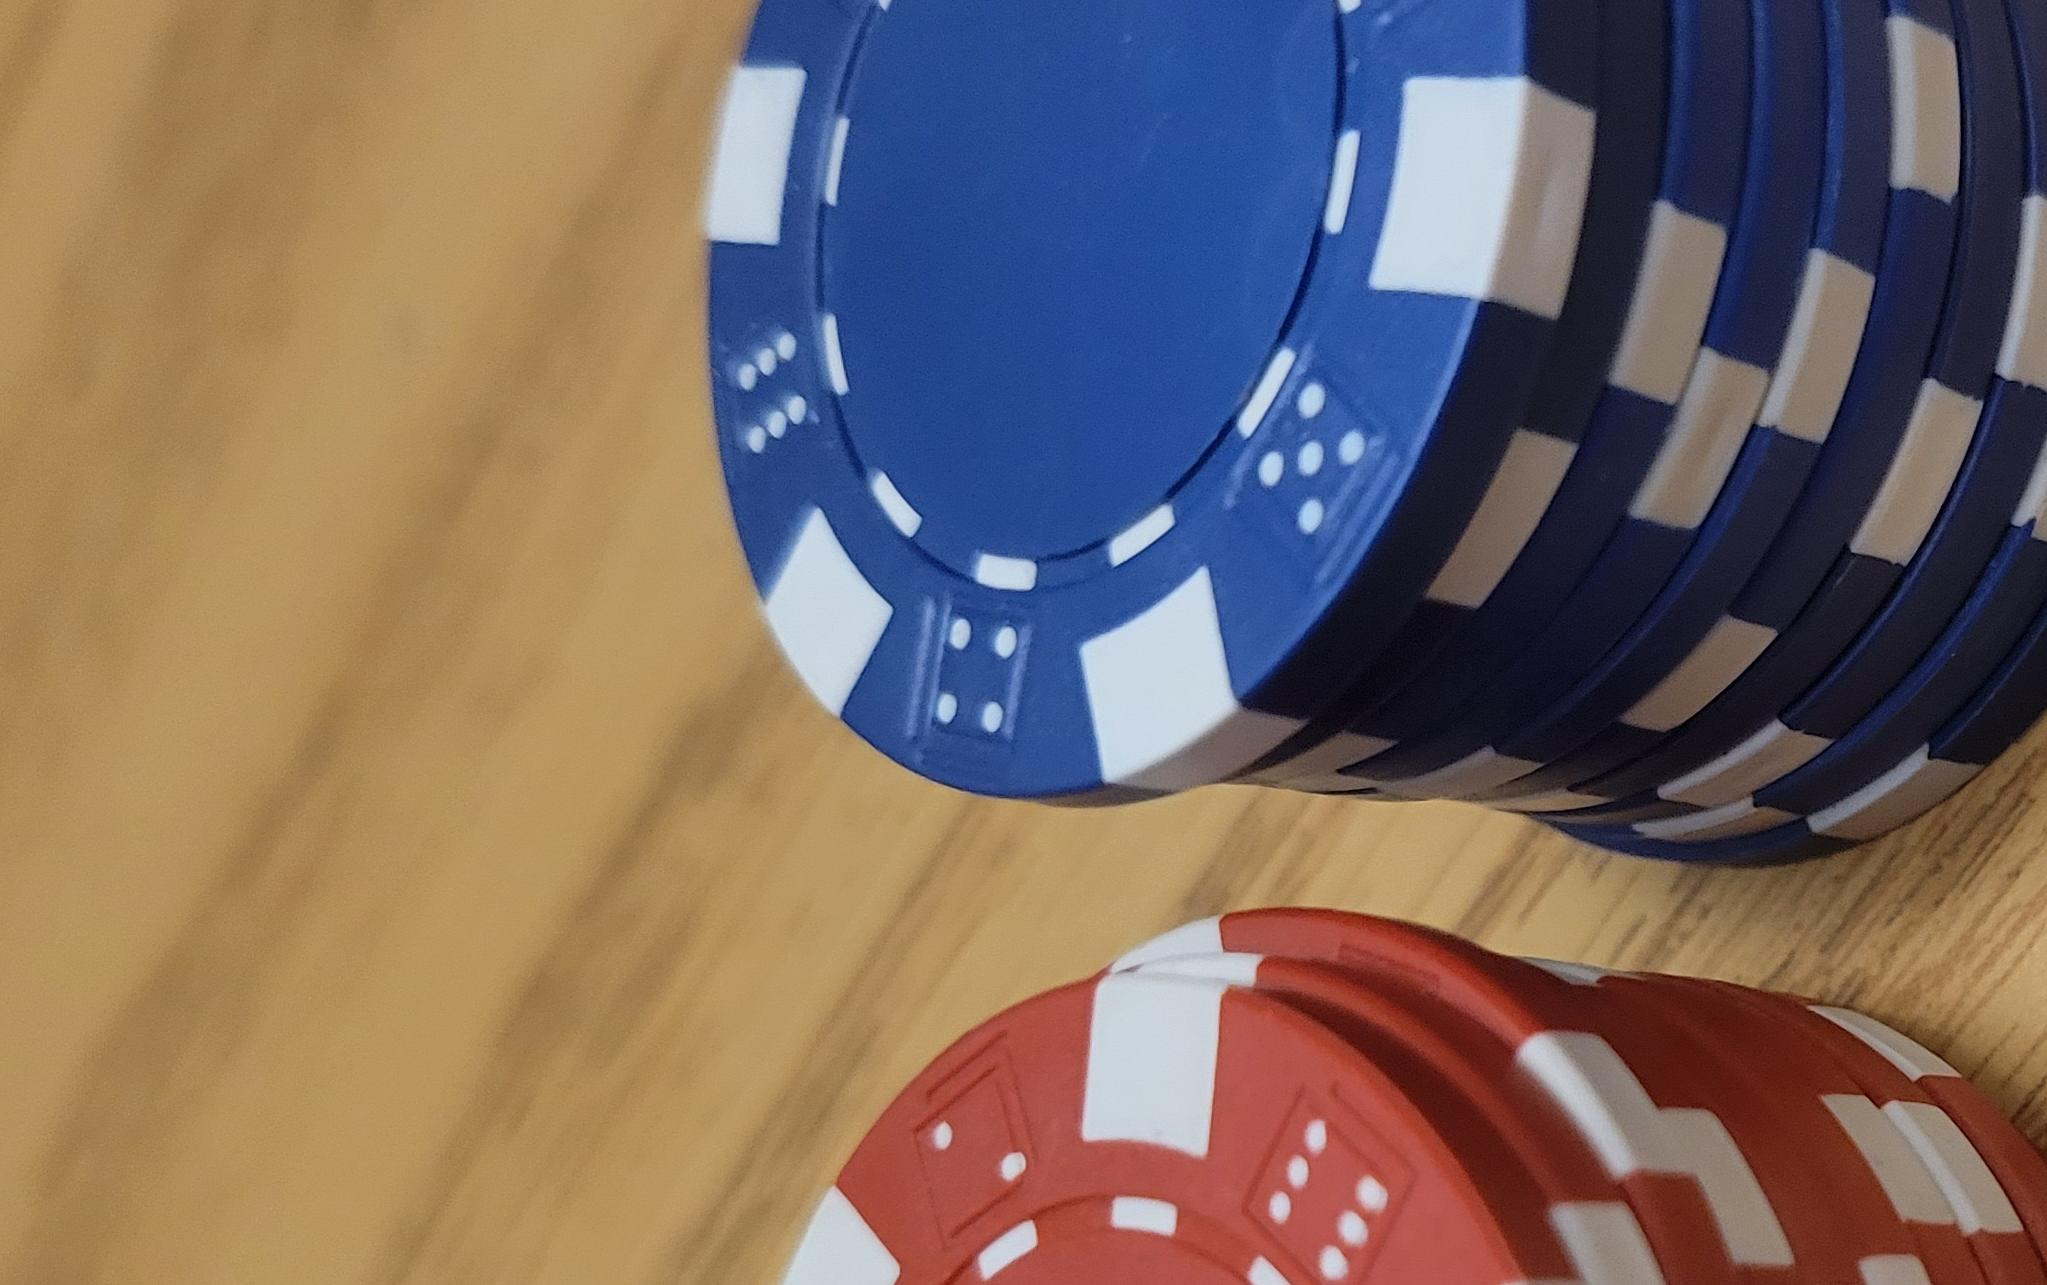Chip: (1, 178, 1502, 1285)
